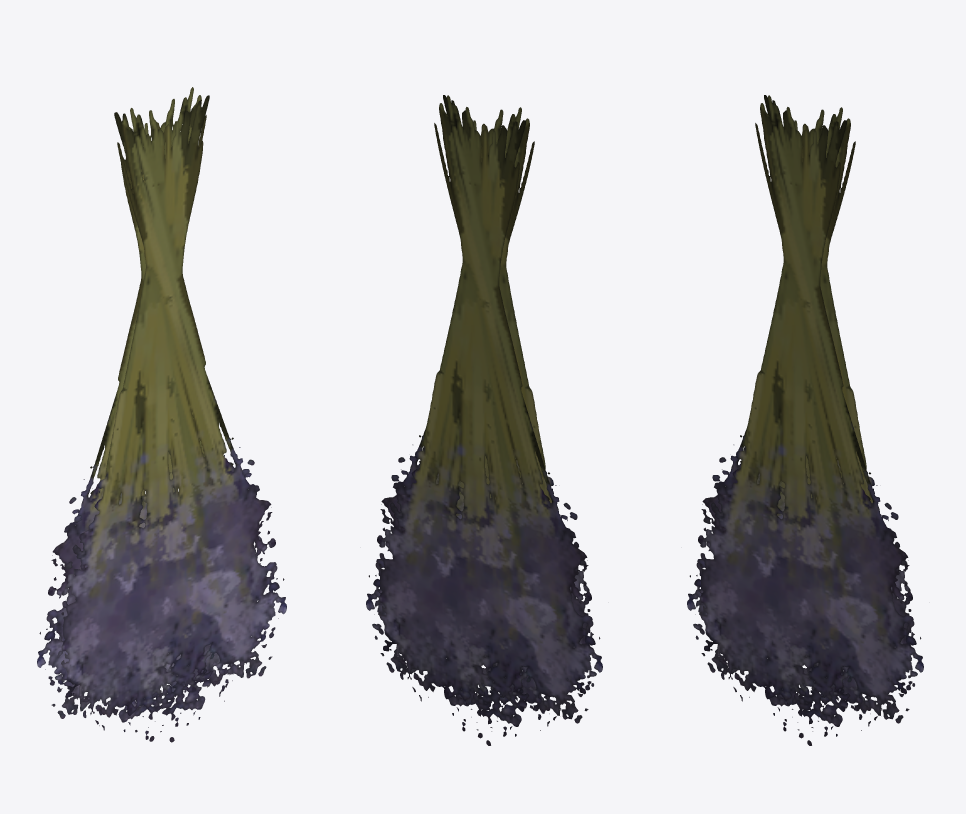
Rendered from Herb1.FBX.
3 views of the same model, side by side, from view 1: azimuth 30°, elevation 25°; view 2: azimuth 150°, elevation 25°; view 3: azimuth 330°, elevation 25° (orthographic).
Visible parts, largest first — view 1: Herb1; view 2: Herb1; view 3: Herb1.
Part boxes in pixels (<box>): Herb1: <box>37,87,286,742</box>; Herb1: <box>366,95,602,745</box>; Herb1: <box>687,95,923,745</box>.
Bounding box in the file's own units: 3.26 × 7.83 × 0.1142.
Materials: 1 (1 with a texture image).
